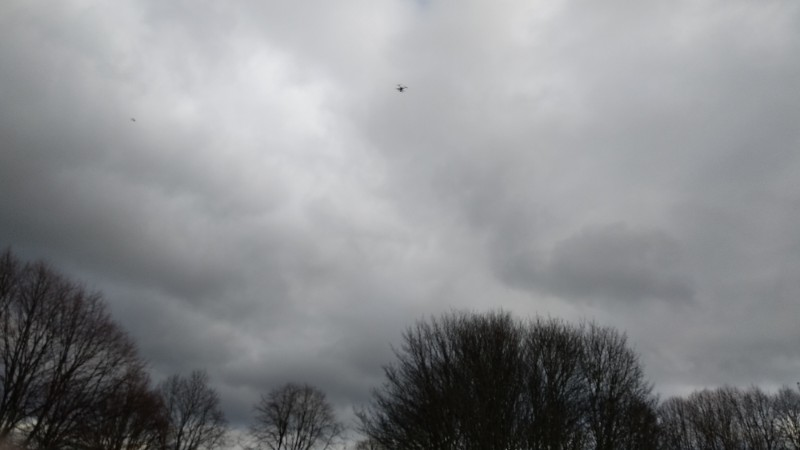drone: (396, 84, 408, 94)
